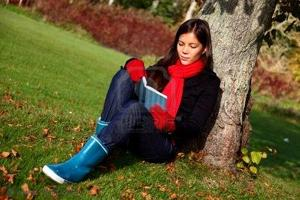person: (41, 20, 223, 184)
